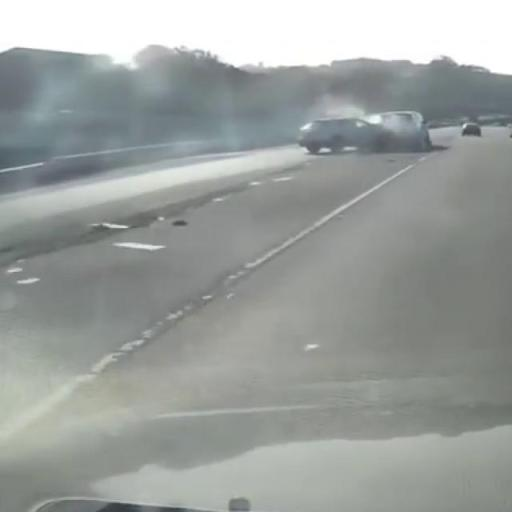小汽车撞小汽车: (296, 103, 437, 157)
